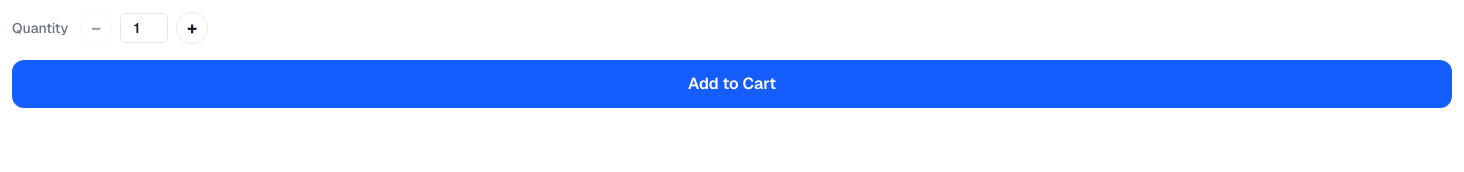
Test case: AddToCartButton › clicking decrement after increment restores quantity to 1
Step 1. Click the button named "Increase quantity" → (192, 28), box [176,12,208,44]
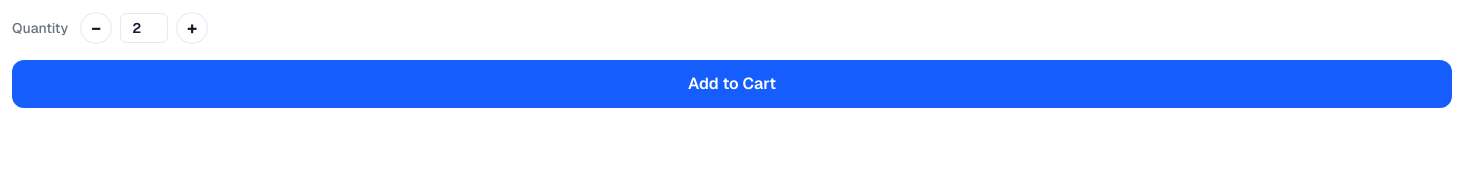
Step 2. Click the button named "Decrease quantity" → (96, 28), box [80,12,112,44]
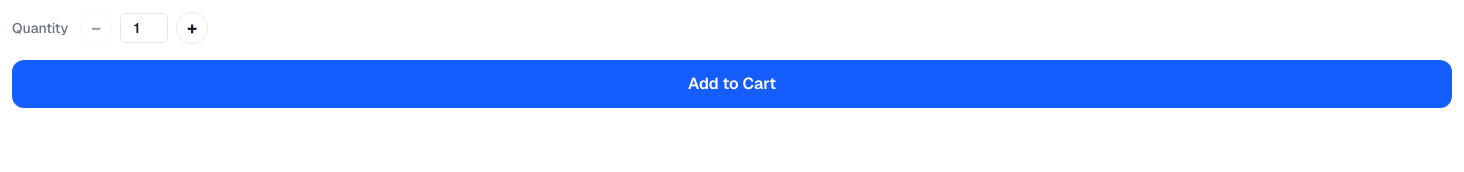
Result: the number field named "Quantity" holds "1" at [120,13,168,43]
